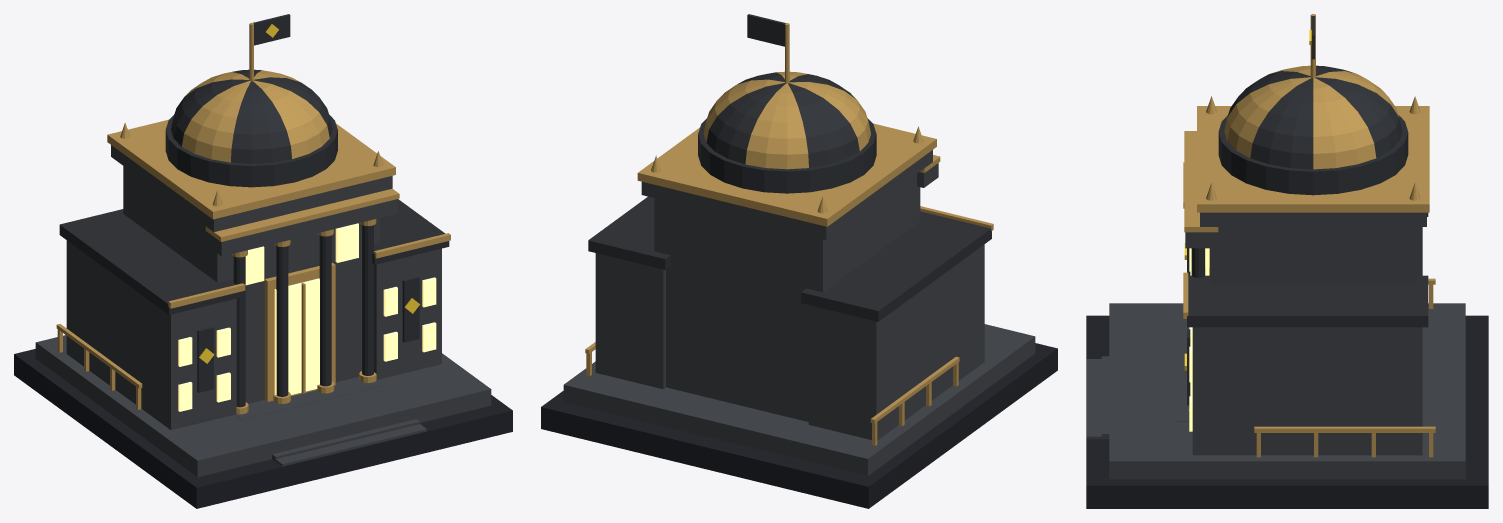
File: council.glb
The picture shows the model from 3 angles, left to right: view 1: azimuth 30°, elevation 25°; view 2: azimuth 150°, elevation 25°; view 3: azimuth 270°, elevation 25°; orthographic projection. The views are drawn at different scales.
Parts seen in each view (by area): view 1: council_geo_council_graphite, council_geo_council_charcoal, council_geo_council_brass, council_geo_council_plinth, council_geo_council_brass_council_charcoal, council_geo_council_window; view 2: council_geo_council_graphite, council_geo_council_charcoal, council_geo_council_plinth, council_geo_council_brass_council_charcoal, council_geo_council_brass; view 3: council_geo_council_graphite, council_geo_council_plinth, council_geo_council_charcoal, council_geo_council_brass_council_charcoal, council_geo_council_brass, council_geo_council_window.
Boxes of the visible parts, x1,y1,x2,y2 form: council_geo_council_graphite: [35, 145, 491, 477]; council_geo_council_charcoal: [59, 14, 449, 407]; council_geo_council_brass: [56, 23, 450, 414]; council_geo_council_plinth: [14, 349, 512, 508]; council_geo_council_brass_council_charcoal: [171, 69, 332, 163]; council_geo_council_window: [178, 223, 436, 411]; council_geo_council_graphite: [563, 150, 1035, 475]; council_geo_council_charcoal: [588, 14, 991, 321]; council_geo_council_plinth: [541, 343, 1057, 508]; council_geo_council_brass_council_charcoal: [703, 71, 870, 169]; council_geo_council_brass: [585, 23, 993, 445]; council_geo_council_graphite: [1086, 212, 1465, 479]; council_geo_council_plinth: [1086, 315, 1488, 508]; council_geo_council_charcoal: [1187, 16, 1428, 405]; council_geo_council_brass_council_charcoal: [1224, 65, 1402, 169]; council_geo_council_brass: [1183, 14, 1435, 457]; council_geo_council_window: [1189, 248, 1209, 431].
Bounding box in the file's own units: 7 × 7.85 × 7.
